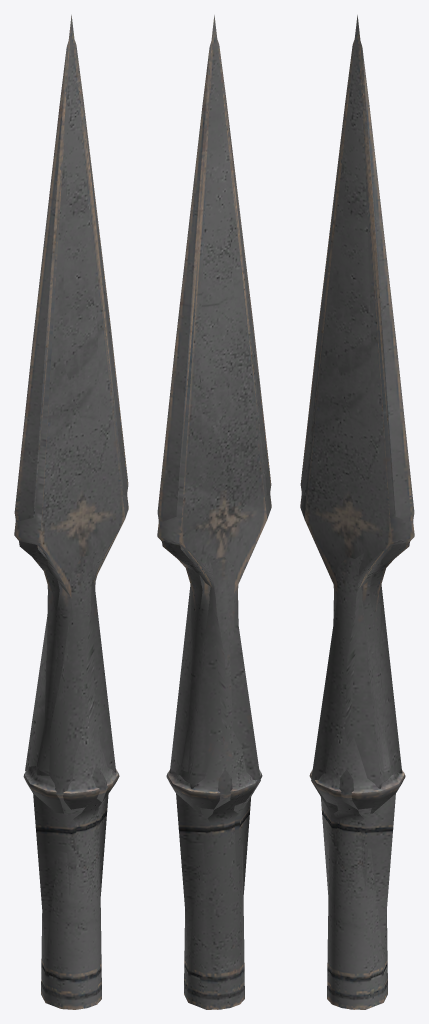
File: wm_swan_knight_spear_pg_blade.fbx
3 renders of one model, left to right at view 1: azimuth 30°, elevation 25°; view 2: azimuth 210°, elevation 25°; view 3: azimuth 330°, elevation 25°, orthographic.
Visible parts, largest first — view 1: wm_swan_knight_spear_pg_blade.lod0, wm_swan_knight_spear_pg_blade; view 2: wm_swan_knight_spear_pg_blade.lod0, wm_swan_knight_spear_pg_blade; view 3: wm_swan_knight_spear_pg_blade.lod0, wm_swan_knight_spear_pg_blade.
Part boxes in pixels (left/top/right/bottom): wm_swan_knight_spear_pg_blade.lod0: left=14, top=40, right=128, bottom=1009; wm_swan_knight_spear_pg_blade: left=14, top=15, right=128, bottom=955; wm_swan_knight_spear_pg_blade.lod0: left=157, top=40, right=271, bottom=1009; wm_swan_knight_spear_pg_blade: left=157, top=15, right=271, bottom=1009; wm_swan_knight_spear_pg_blade.lod0: left=300, top=40, right=414, bottom=1009; wm_swan_knight_spear_pg_blade: left=300, top=15, right=414, bottom=1009.
Size of the model in its own units: 0.0726 by 0.0514 by 0.5966.
1 material, 1 textured.
